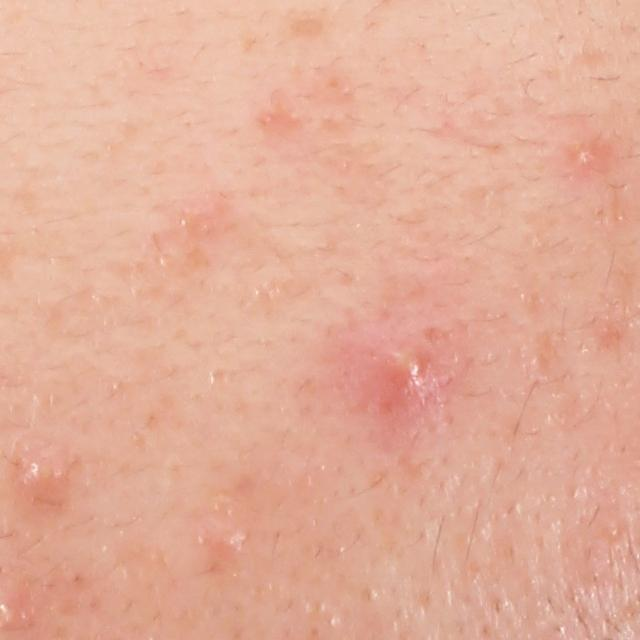papule: (15, 452, 63, 500)
pustule: (344, 320, 460, 426)
